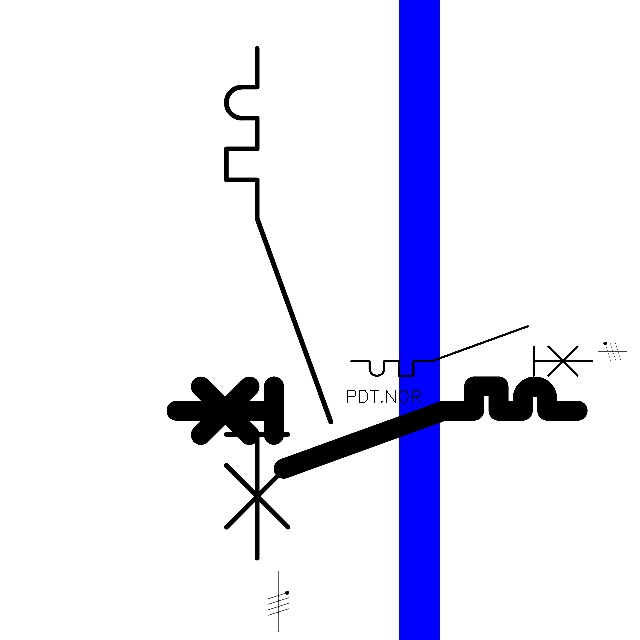interruptor_termomagnetico: (213, 35, 344, 571), (166, 376, 588, 479), (345, 320, 599, 382)
